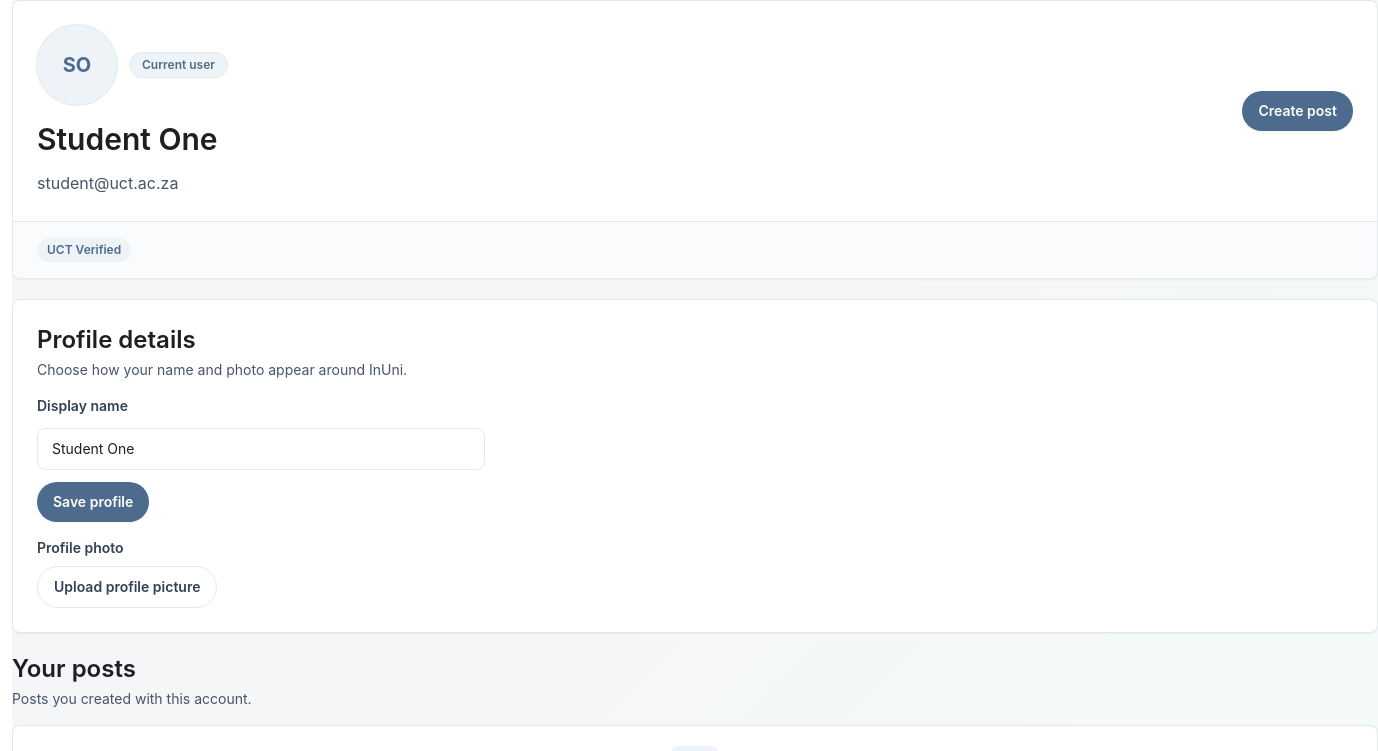
Test: ProfilePage identity editing › shows fallback initials and saves a changed display name
Check: the text named "Student One avatar" reads "SO", box [63,53,91,77]
Replace the text in the field labelled "Display name" with "New Student" at (261, 449), box [37,428,485,470]
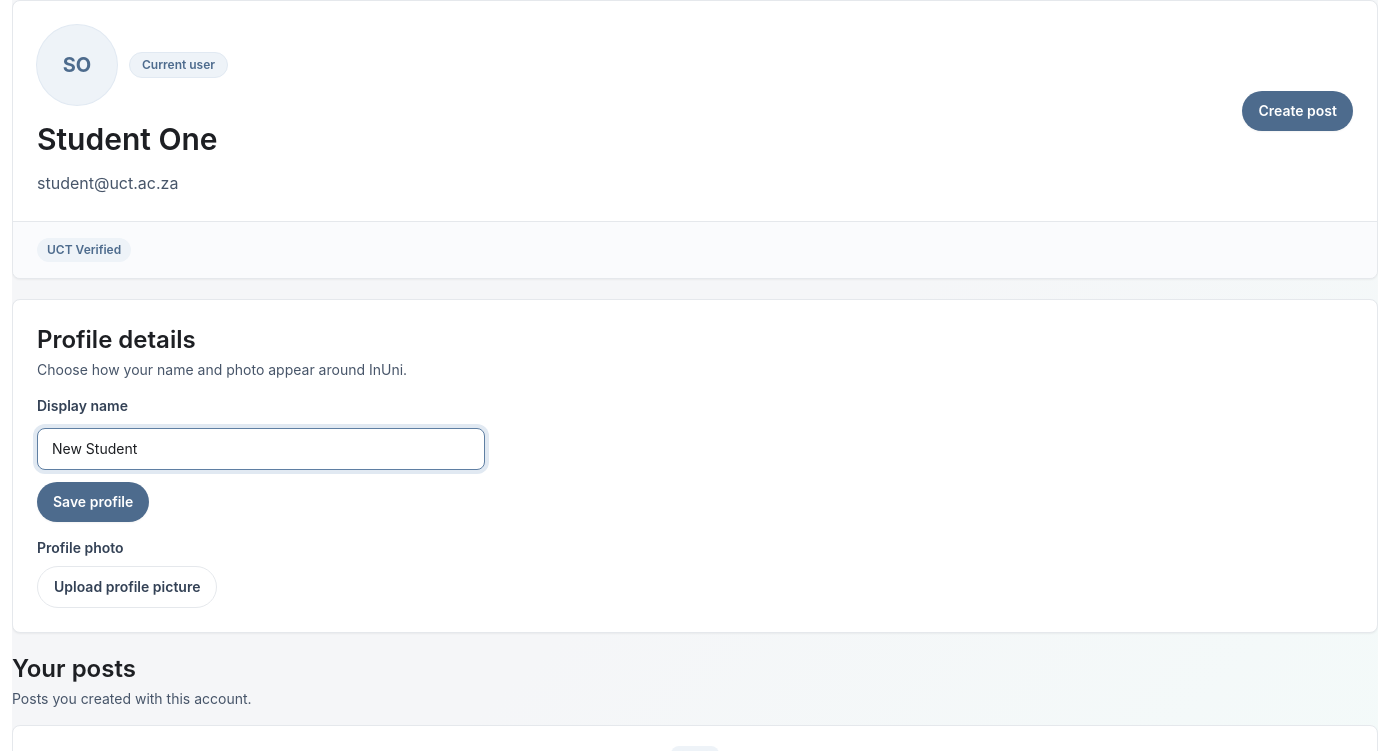
Click the button "Save profile" at (93, 502), box [37,482,149,522]
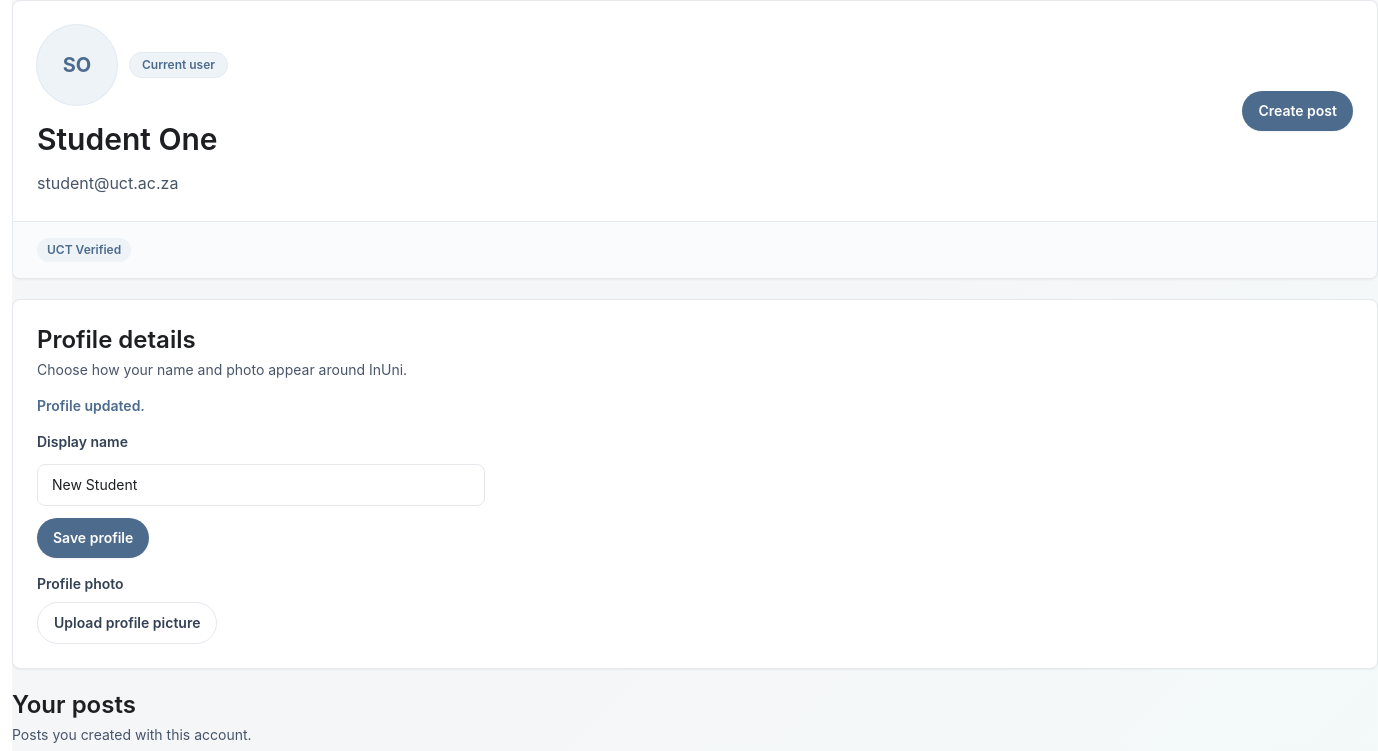
Check: the text "Profile updated." is shown, box [37,397,145,414]
